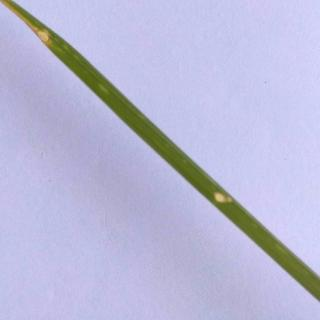Blast: (202, 175, 250, 222), (30, 23, 56, 49)
